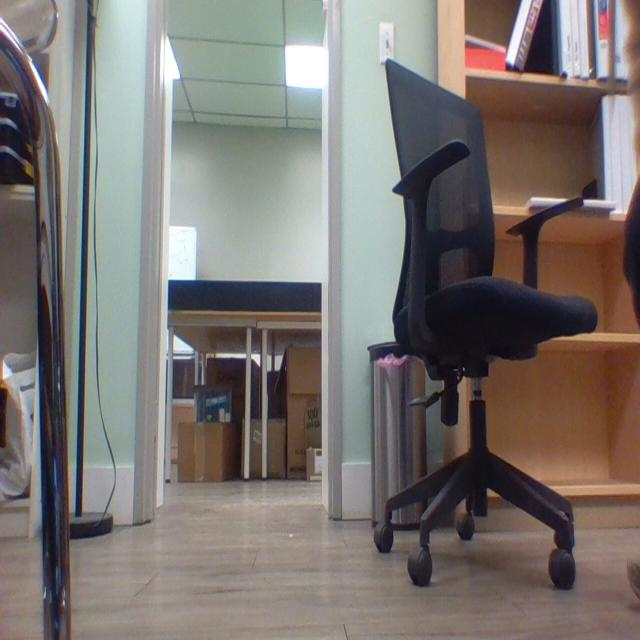black-chair: (361, 49, 600, 568)
